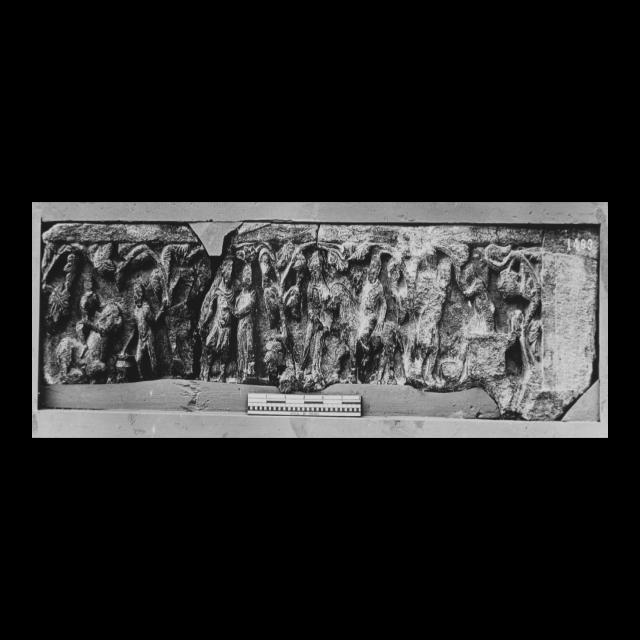buddha-horse-riding: (328, 254, 402, 384)
